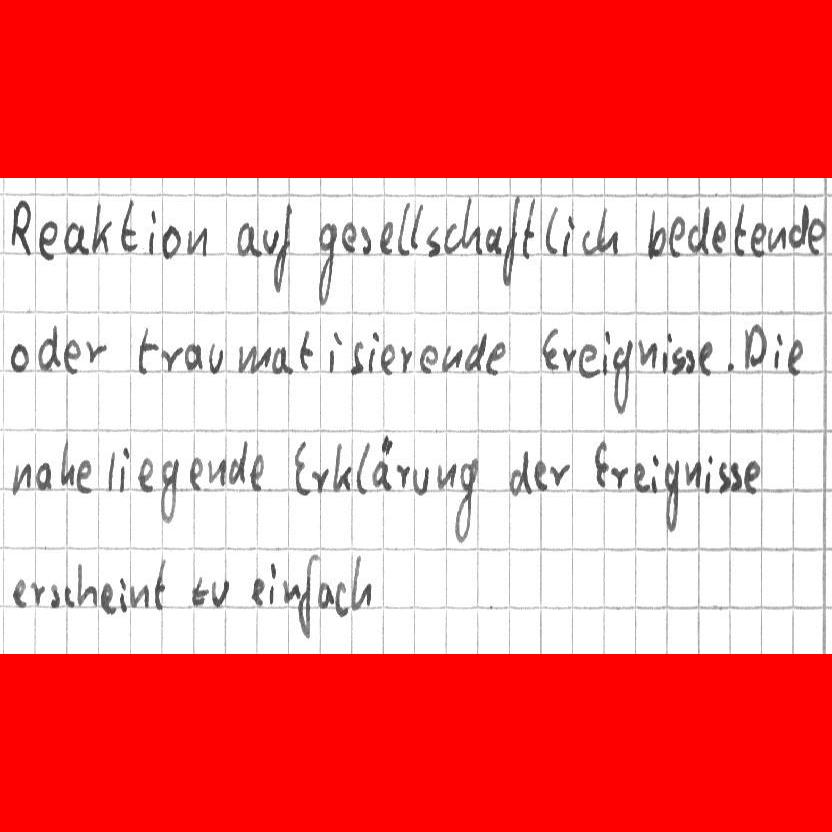Char: (450, 455, 479, 548), (297, 550, 321, 643), (498, 195, 521, 289), (314, 219, 338, 305), (273, 203, 295, 293), (609, 338, 633, 415), (6, 194, 34, 259), (155, 457, 180, 528), (458, 191, 483, 258), (349, 554, 374, 616), (370, 433, 394, 494), (684, 203, 711, 257), (741, 321, 769, 371), (90, 195, 113, 255), (134, 324, 160, 377), (663, 456, 680, 535), (36, 322, 62, 373), (507, 448, 532, 499), (235, 342, 272, 376), (645, 206, 668, 260), (37, 213, 62, 261), (118, 197, 139, 253), (595, 206, 619, 255), (786, 201, 811, 248), (575, 340, 602, 380), (463, 330, 488, 373), (75, 562, 98, 608), (234, 220, 261, 259), (520, 196, 536, 260), (332, 441, 352, 492), (665, 213, 686, 261), (543, 202, 561, 257), (182, 224, 211, 258), (56, 436, 75, 487), (293, 439, 310, 496), (228, 439, 249, 485), (558, 212, 578, 260), (540, 325, 560, 373), (396, 199, 412, 258), (64, 218, 88, 256), (731, 200, 747, 257), (355, 440, 371, 496), (158, 222, 182, 259), (483, 337, 506, 375), (298, 328, 316, 375), (326, 327, 343, 376), (417, 341, 440, 377), (153, 557, 168, 612), (72, 455, 92, 496), (593, 439, 609, 490), (636, 336, 659, 371), (62, 335, 82, 375), (440, 341, 463, 375), (807, 216, 827, 255), (246, 451, 265, 492), (785, 337, 804, 377), (7, 341, 30, 374), (378, 217, 396, 259), (741, 460, 762, 496), (270, 344, 295, 374), (709, 217, 728, 256), (159, 344, 182, 376), (434, 460, 457, 492), (409, 201, 424, 250), (10, 460, 31, 495), (135, 455, 154, 493), (696, 339, 714, 378), (145, 206, 159, 255), (339, 218, 357, 256), (187, 456, 206, 492), (183, 342, 205, 373), (333, 579, 350, 619), (84, 339, 109, 366), (483, 221, 504, 253), (209, 578, 230, 610), (749, 221, 767, 258), (683, 458, 703, 491), (766, 223, 787, 254), (425, 222, 442, 260), (349, 338, 366, 376), (33, 458, 52, 492), (366, 328, 380, 374), (631, 459, 649, 494), (409, 464, 428, 497), (117, 444, 130, 492), (261, 226, 281, 257), (207, 340, 224, 376), (378, 341, 396, 375), (190, 575, 209, 607), (548, 461, 570, 488), (207, 456, 226, 487), (10, 577, 29, 608), (266, 561, 278, 610), (281, 577, 302, 605), (356, 221, 373, 255), (532, 459, 549, 493), (104, 448, 117, 492), (129, 582, 150, 609), (310, 467, 330, 495), (702, 453, 715, 496), (442, 220, 457, 257), (399, 342, 415, 376), (250, 576, 267, 608), (600, 328, 611, 377), (661, 330, 673, 374), (649, 451, 661, 495), (100, 581, 116, 614), (772, 331, 785, 371), (610, 464, 629, 491), (317, 582, 334, 612), (579, 226, 595, 257), (728, 460, 743, 493), (395, 462, 412, 491), (29, 579, 46, 608), (717, 459, 730, 496), (561, 345, 577, 374), (671, 344, 685, 375), (118, 576, 128, 614), (49, 582, 62, 611), (683, 348, 696, 375), (64, 584, 75, 609), (723, 357, 736, 376)
